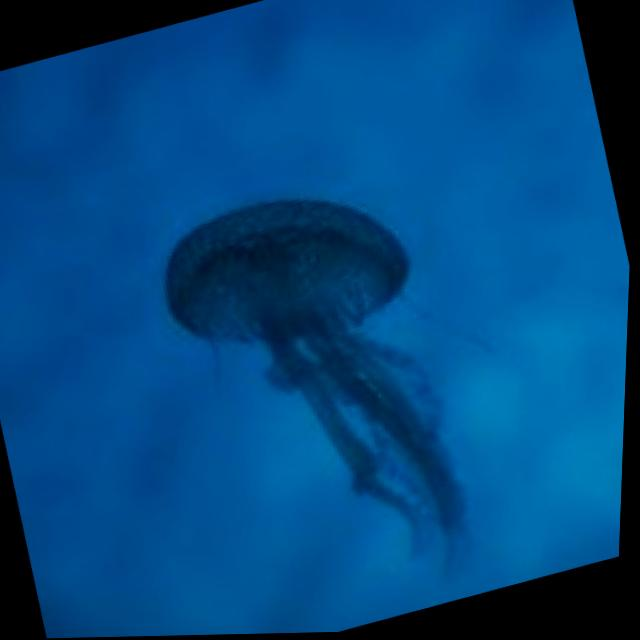Moon-jellyfish: (141, 149, 557, 637)
